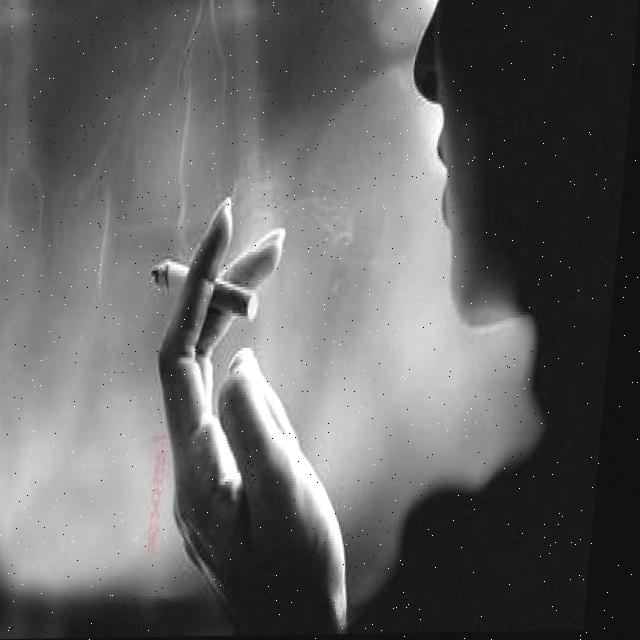cigarette: (157, 260, 270, 324)
